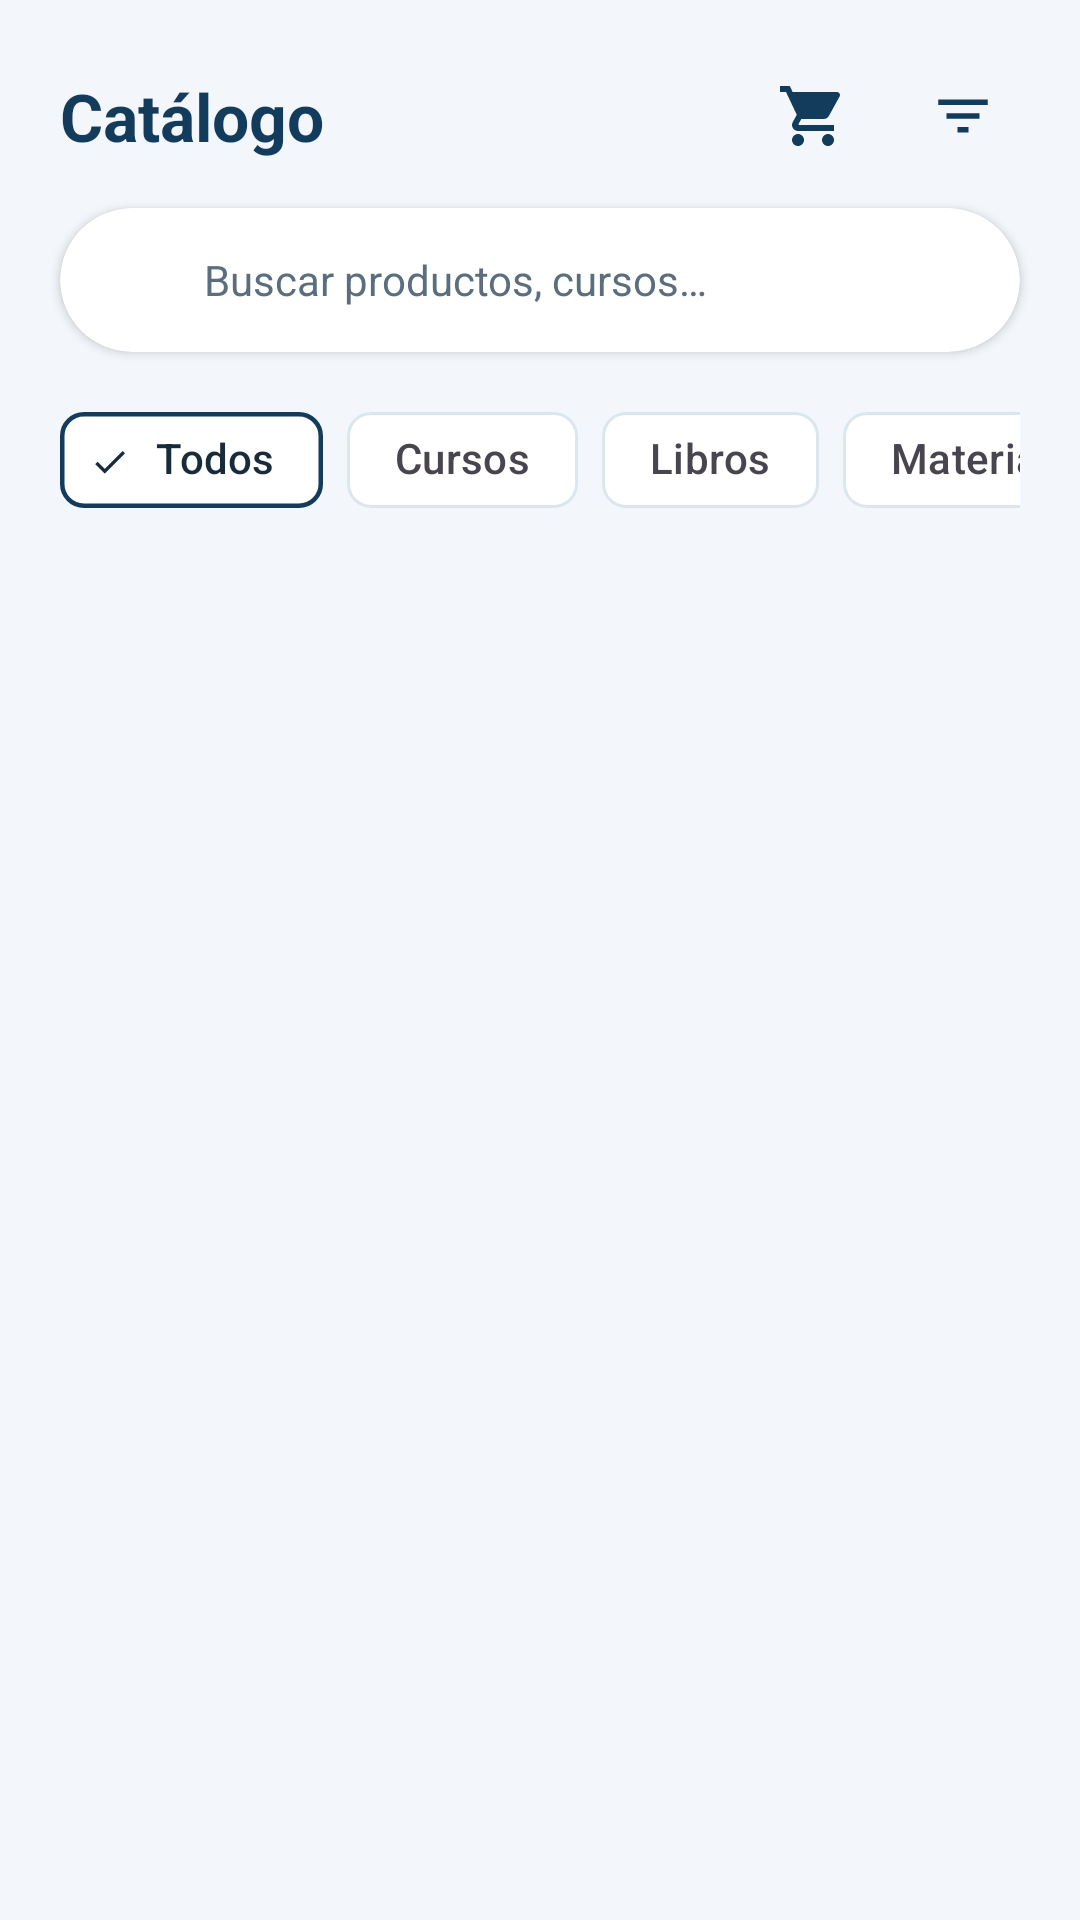

Named icons in this screenshot (1080*1920) and their centers, point (x, y):
Filtros: point (963, 116)
Mi carrito: point (810, 116)
